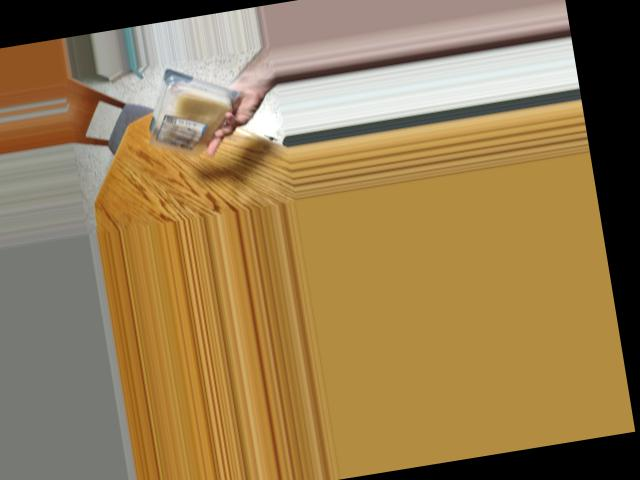cheese: (135, 70, 243, 161)
